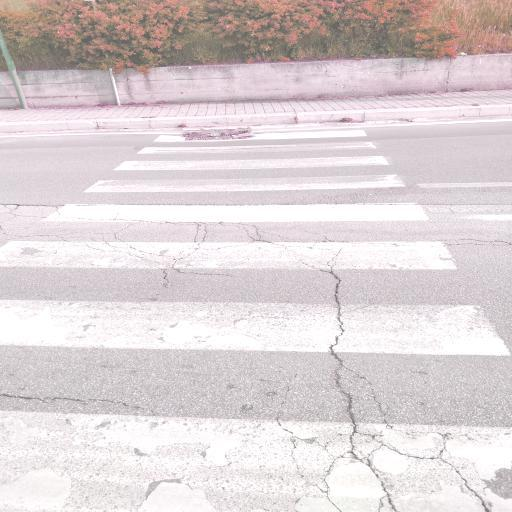crosswalk: (0, 238, 512, 370), (32, 172, 432, 226), (130, 128, 381, 156)
